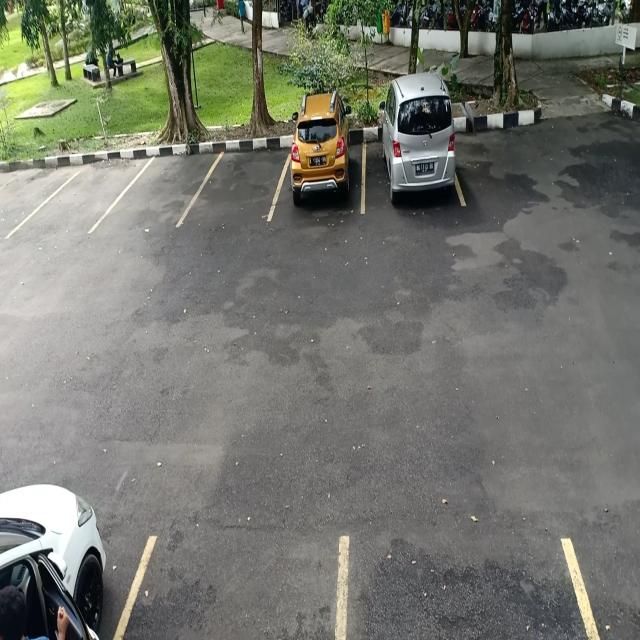empty: (195, 133, 279, 225), (108, 156, 195, 231), (41, 157, 107, 238)
occupied: (362, 110, 460, 212), (277, 119, 366, 222)
